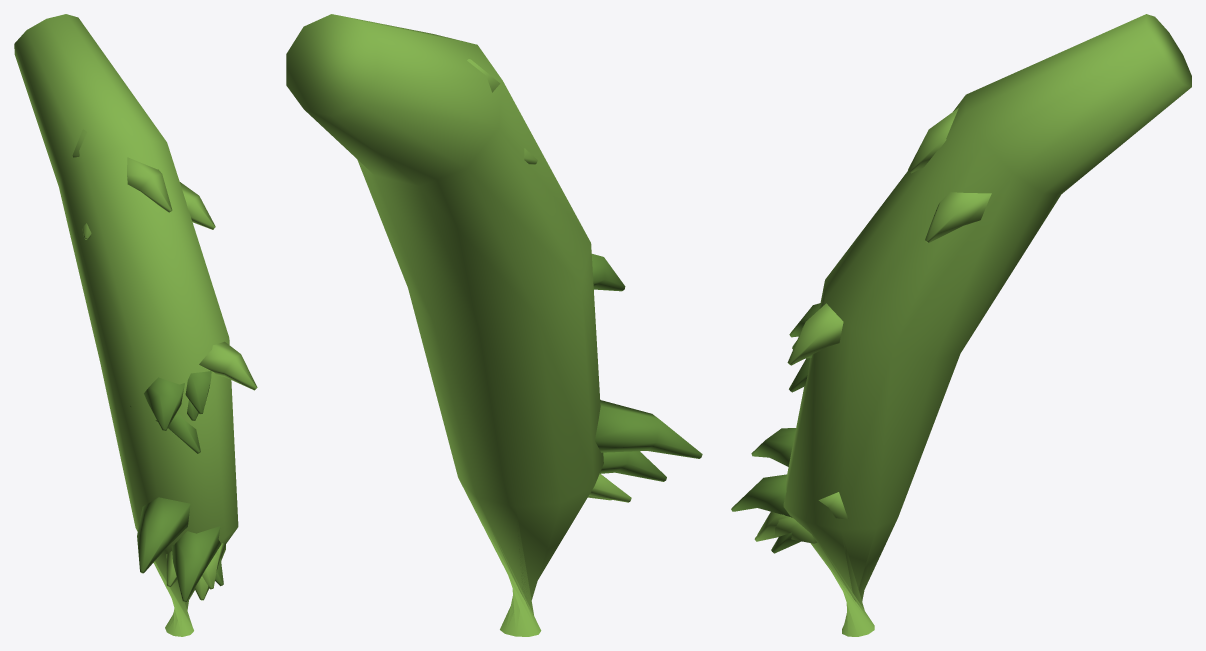
Rendered from were_tail.glb.
The picture shows the model from 3 angles, left to right: view 1: azimuth 30°, elevation 25°; view 2: azimuth 150°, elevation 25°; view 3: azimuth 270°, elevation 25°; orthographic projection. The views are drawn at different scales.
Visible parts, largest first — view 1: piece; view 2: piece; view 3: piece.
Boxes of the visible parts, x1,y1,x2,y2 form: piece: [14, 14, 257, 636]; piece: [286, 14, 702, 636]; piece: [731, 14, 1191, 636].
Size of the model in its own units: 0.2332 by 0.7819 by 0.5337.
